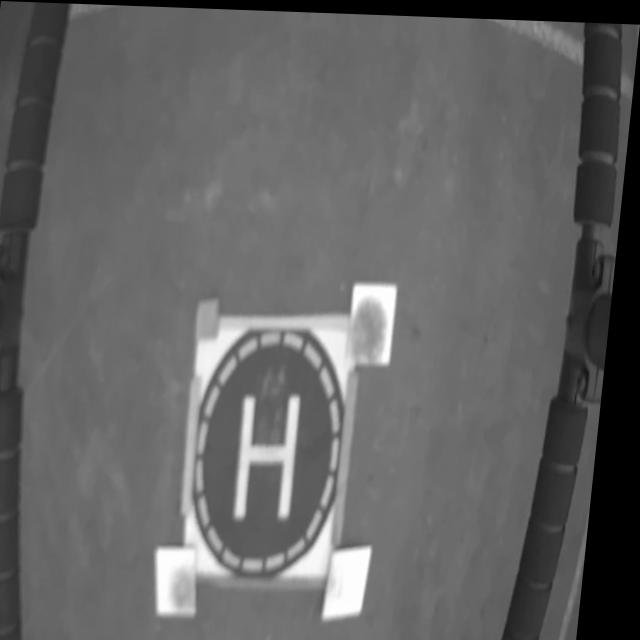Helipad: (244, 391, 308, 517)
